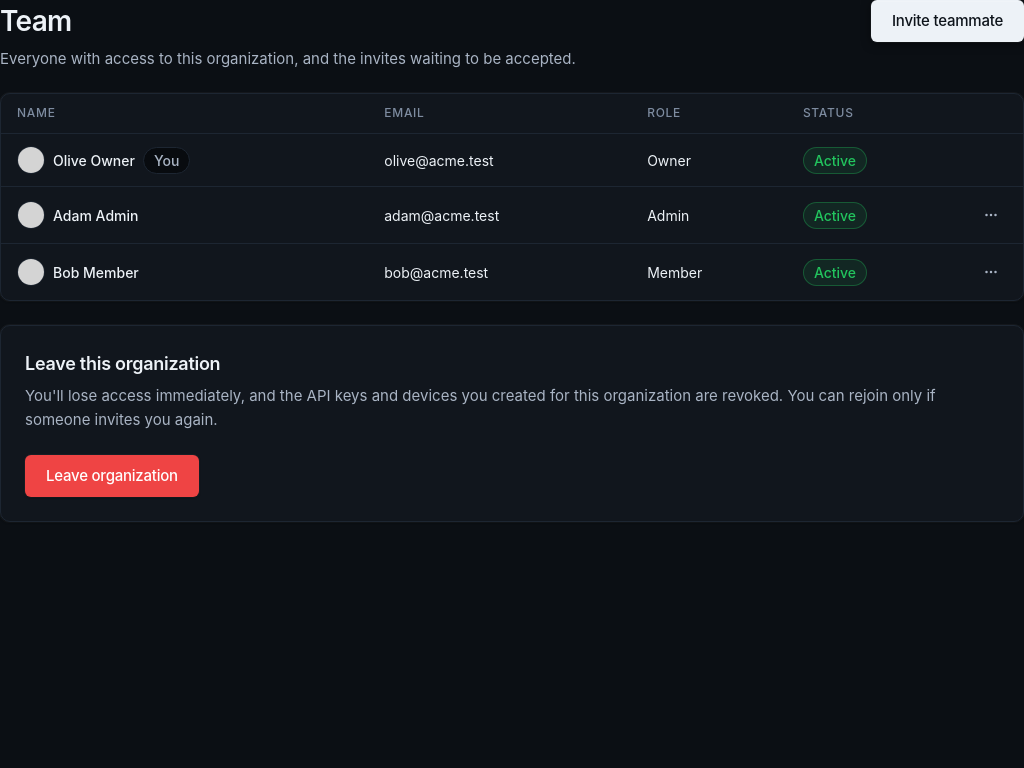
Scenario: TeamManager — invites › does NOT claim an email was sent when it wasn't — it tells you to copy the link
The width and height of the screenshot is (1024, 768).
Step 1. Click the button "Invite teammate" → (948, 21), box [871,0,1023,42]
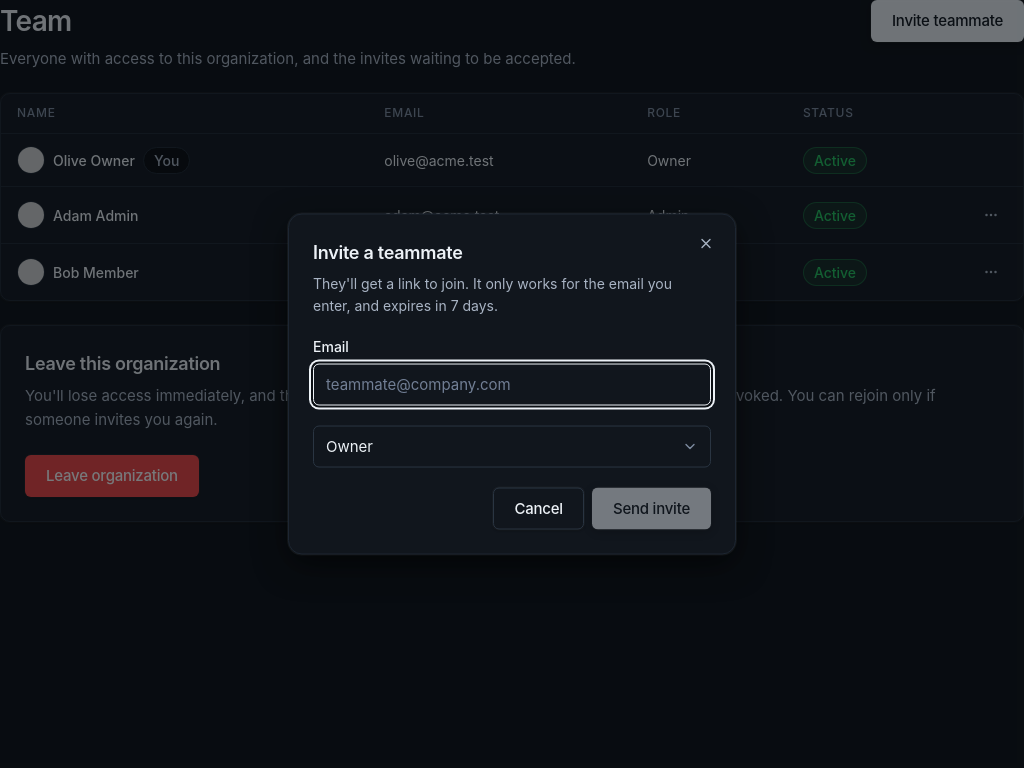
Step 2. Type "carol@acme.test" into the field labelled "Email" → (512, 384), box [313,364,711,406]
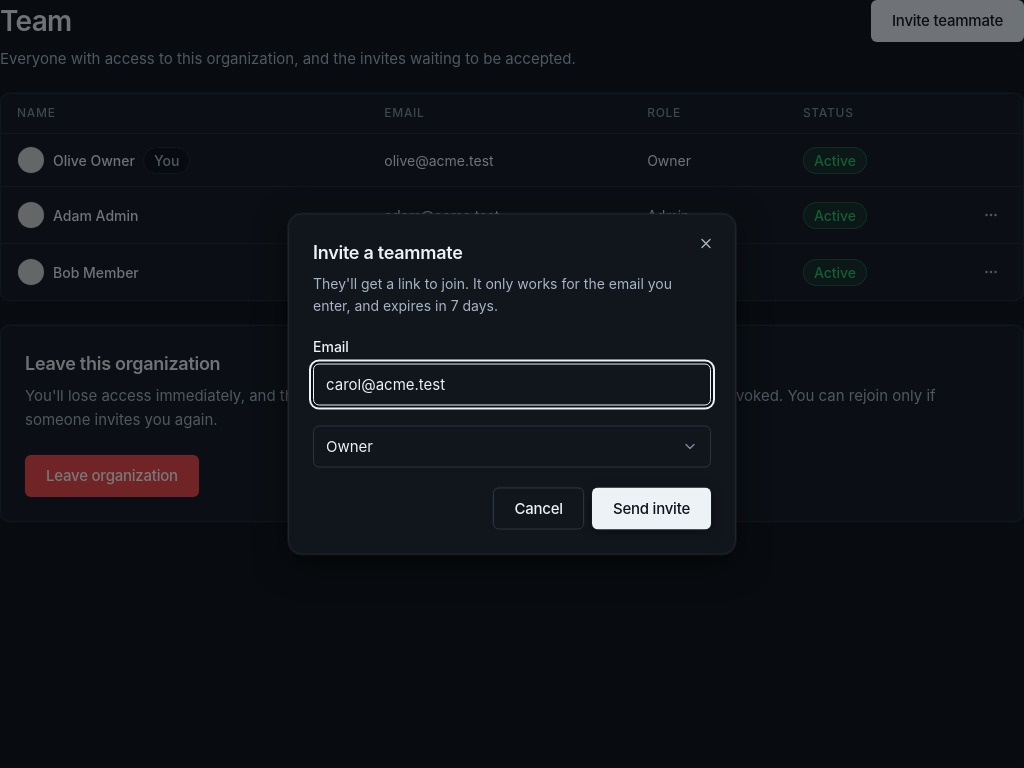
Step 3. Click the button "Send invite" → (651, 508), box [592,488,711,530]
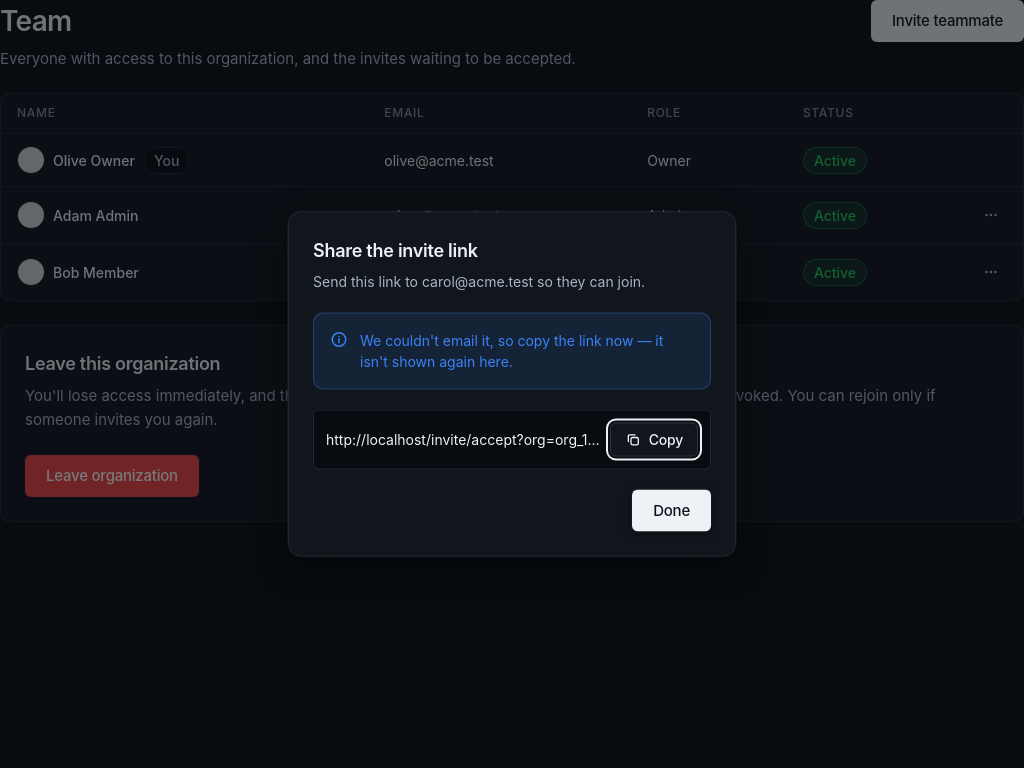
Check: the text "couldn't email it" is shown, box [360,331,663,370]
Check: the text "http://localhost/invite/accept?org=org_1&token=whinv_secret" is shown, box [326,429,602,450]
